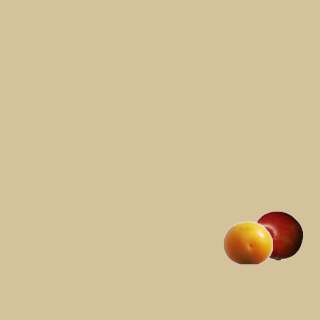Apple Braeburn: (252, 210, 302, 260)
Cherry Wax Yellow: (222, 217, 272, 267)
